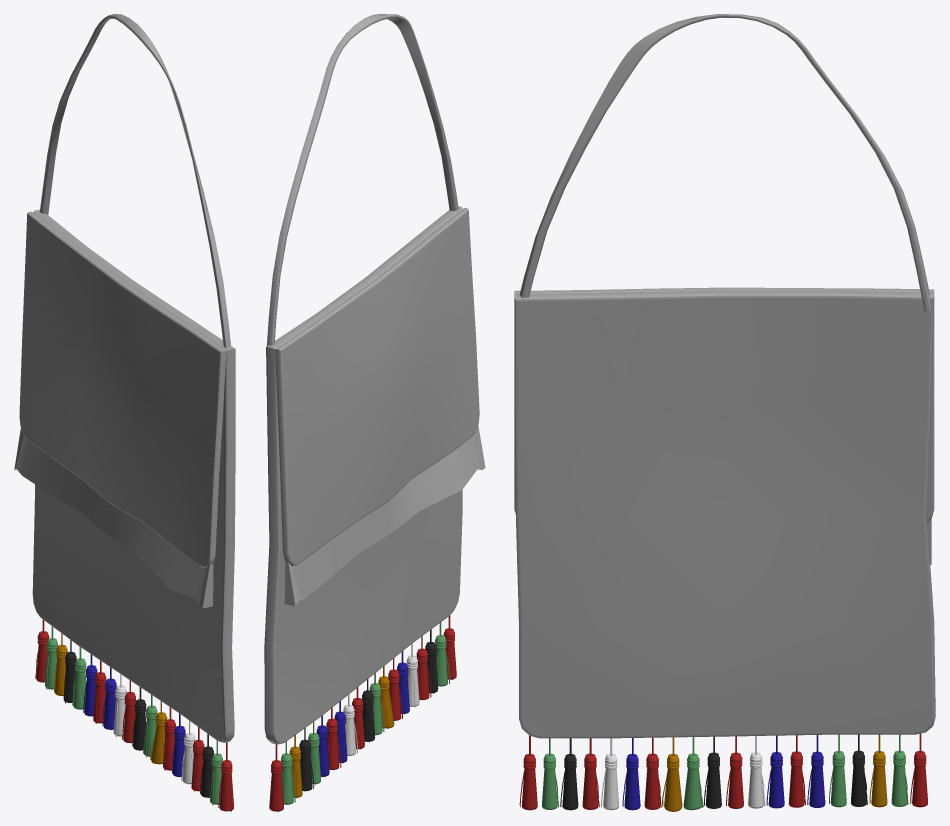
Rendered from BagWithTassels.fbx.
3 renders of one model, left to right at view 1: azimuth 30°, elevation 25°; view 2: azimuth 150°, elevation 25°; view 3: azimuth 270°, elevation 25°, orthographic. The views are drawn at different scales.
Visible parts, largest first — view 1: Tassel20; view 2: Tassel20; view 3: Tassel20.
Boxes of the visible parts, <box> form: Tassel20: <box>14,14,235,811</box>; Tassel20: <box>264,14,485,811</box>; Tassel20: <box>514,14,935,811</box>.
Size of the model in its own units: 5.83 by 90.22 by 43.53.
